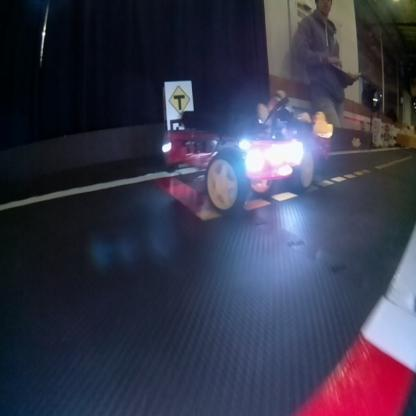duckiebot: (156, 101, 318, 207)
